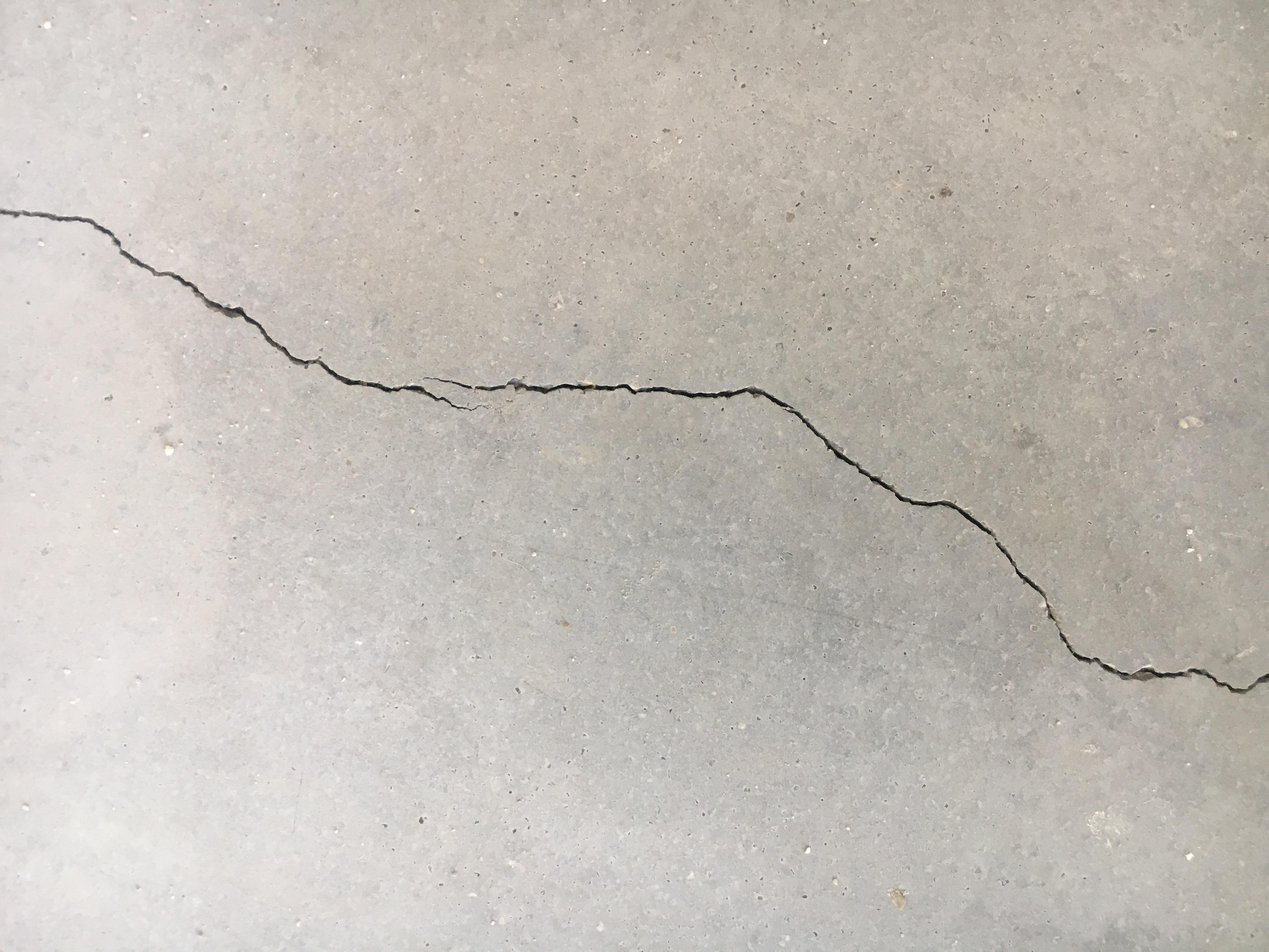Diagonal Crack: (3, 202, 1265, 697)
